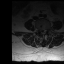CCS_normal: (42, 28, 44, 35)
LFS_stenosis: (45, 27, 47, 33)
LLS_normal: (44, 28, 45, 35)
RFS_normal: (38, 28, 40, 33)
RLS_normal: (40, 28, 42, 35)
